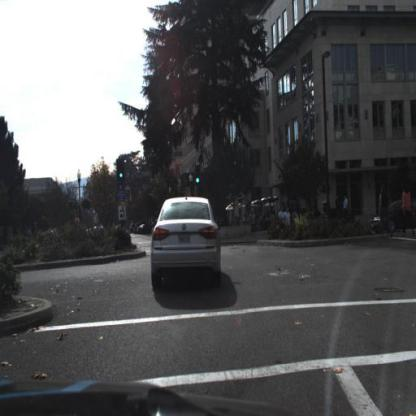car: (150, 193, 223, 292)
pedestrian: (379, 183, 392, 238), (402, 185, 414, 238), (344, 192, 354, 233), (343, 190, 350, 229), (335, 193, 342, 230), (277, 203, 286, 230), (334, 192, 342, 221), (287, 208, 294, 237), (287, 206, 293, 235), (280, 206, 285, 236)
trafficLight: (119, 161, 127, 185)
trafficLight-Green: (195, 166, 200, 187)
